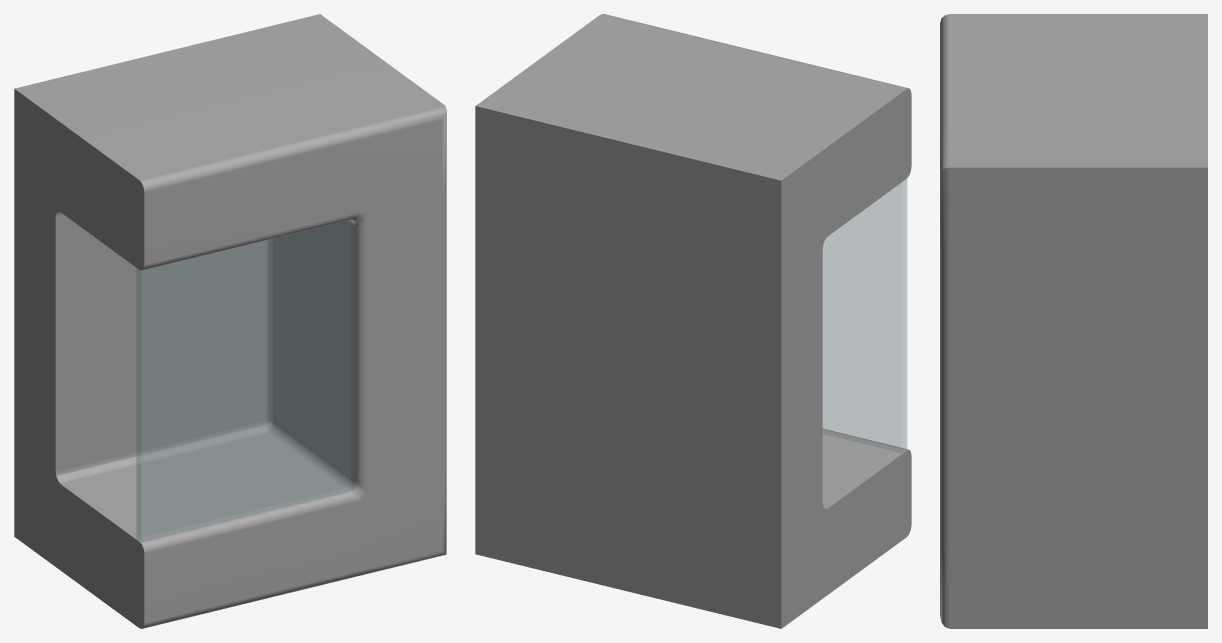
File: WallWindow_Right.fbx
The picture shows the model from 3 angles, left to right: view 1: azimuth 30°, elevation 25°; view 2: azimuth 150°, elevation 25°; view 3: azimuth 270°, elevation 25°; orthographic projection. The views are drawn at different scales.
Parts seen in each view (by area): view 1: WallWindow_Right; view 2: WallWindow_Right; view 3: WallWindow_Right.
Part boxes in pixels (x1=…): WallWindow_Right: x1=14, y1=14, x2=446, y2=628; WallWindow_Right: x1=475, y1=14, x2=911, y2=628; WallWindow_Right: x1=940, y1=14, x2=1207, y2=628.
Bounding box in the file's own units: 500 × 700 × 368.
